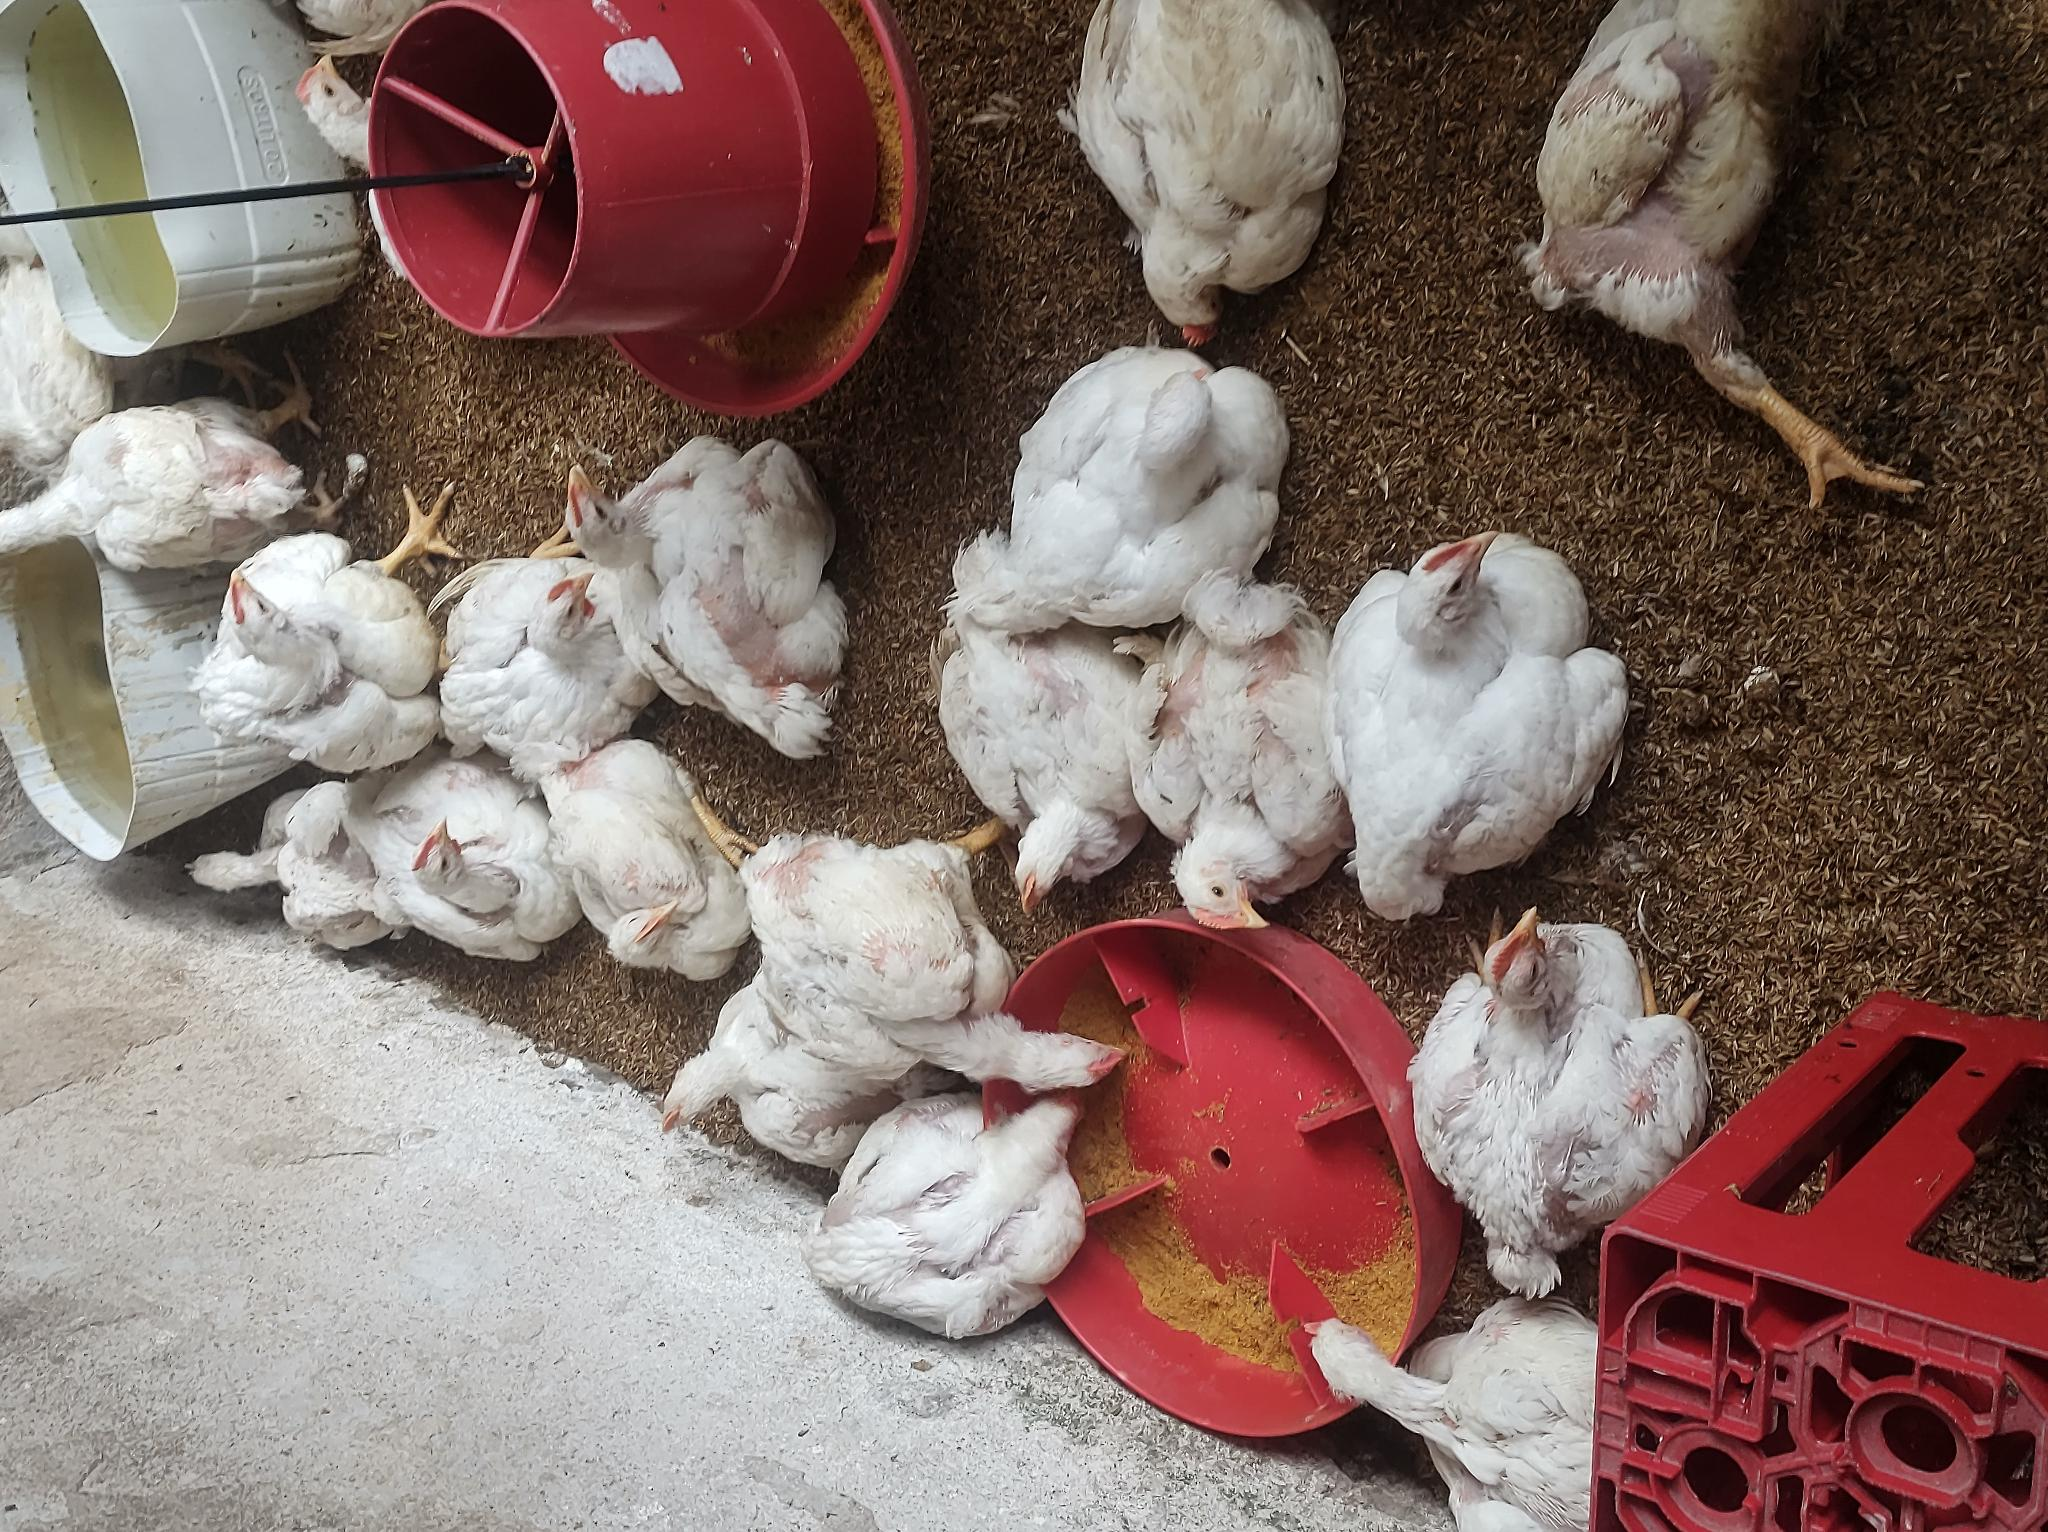Pollos: (1343, 451, 1646, 933), (977, 327, 1417, 632), (1532, 0, 1857, 407), (738, 813, 1137, 1109), (0, 282, 365, 578), (566, 438, 890, 766), (796, 1102, 1168, 1347), (1060, 18, 1396, 282), (1482, 863, 1672, 1292), (1142, 595, 1371, 937), (920, 586, 1133, 933), (528, 711, 796, 983), (433, 534, 695, 779), (335, 735, 557, 1006), (177, 544, 430, 763), (627, 964, 840, 1176), (171, 785, 376, 964), (1226, 0, 1236, 47)
